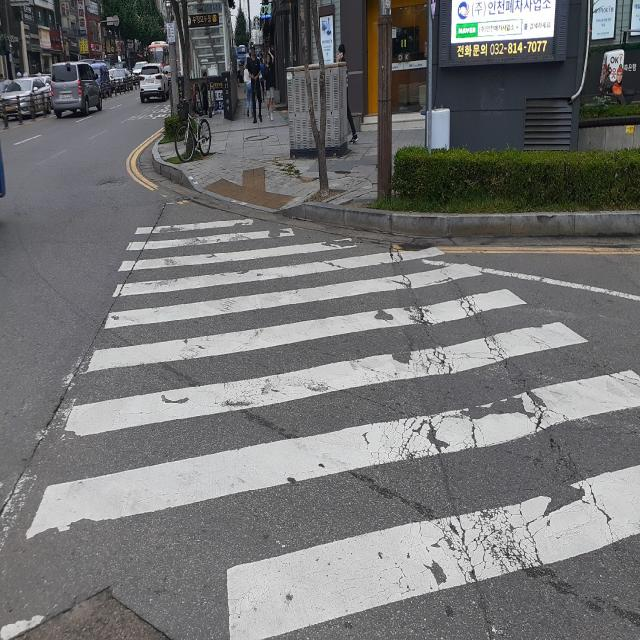횡단보도: (0, 215, 639, 638)
